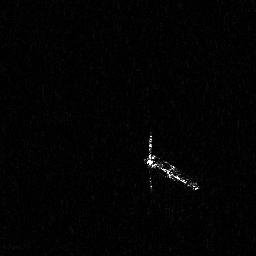ship: (142, 128, 202, 195)
